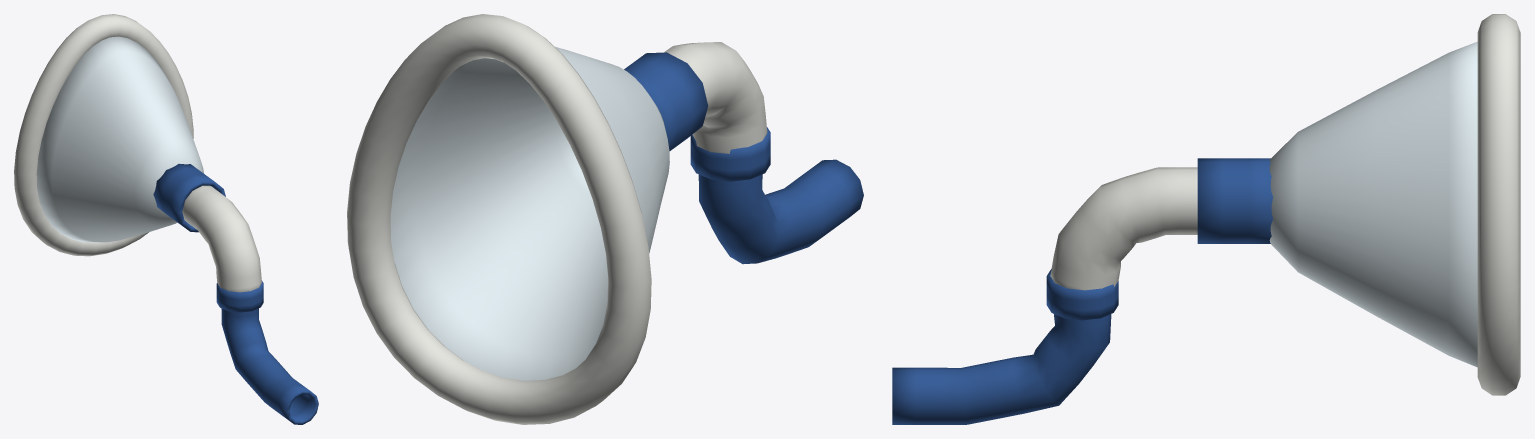
Rendered from gas_mask.glb.
3 renders of one model, left to right at view 1: azimuth 30°, elevation 25°; view 2: azimuth 150°, elevation 25°; view 3: azimuth 270°, elevation 25°, orthographic. The views are drawn at different scales.
Parts seen in each view (by area): view 1: Cup, Cushion, Hose, Elbow, Connector, HoseCollar; view 2: Cup, Cushion, Hose, Elbow, Connector, HoseCollar; view 3: Cup, Cushion, Hose, Elbow, Connector, HoseCollar.
Boxes of the visible parts, left/top/right/bottom form: Cup: left=36, top=36, right=203, bottom=242; Cushion: left=14, top=14, right=193, bottom=256; Hose: left=221, top=308, right=318, bottom=424; Elbow: left=182, top=185, right=261, bottom=292; Connector: left=153, top=163, right=225, bottom=232; HoseCollar: left=216, top=280, right=263, bottom=312; Cup: left=390, top=47, right=669, bottom=380; Cushion: left=347, top=14, right=651, bottom=424; Hose: left=698, top=159, right=863, bottom=264; Elbow: left=664, top=42, right=767, bottom=153; Connector: left=624, top=52, right=708, bottom=150; HoseCollar: left=690, top=127, right=770, bottom=181; Cup: left=1269, top=41, right=1477, bottom=367; Cushion: left=1477, top=14, right=1520, bottom=395; Hose: left=892, top=314, right=1111, bottom=424; Elbow: left=1050, top=167, right=1197, bottom=290; Connector: left=1197, top=158, right=1273, bottom=243; HoseCollar: left=1046, top=269, right=1118, bottom=320.
Bounding box in the file's own units: 0.0861 × 0.1232 × 0.175.
